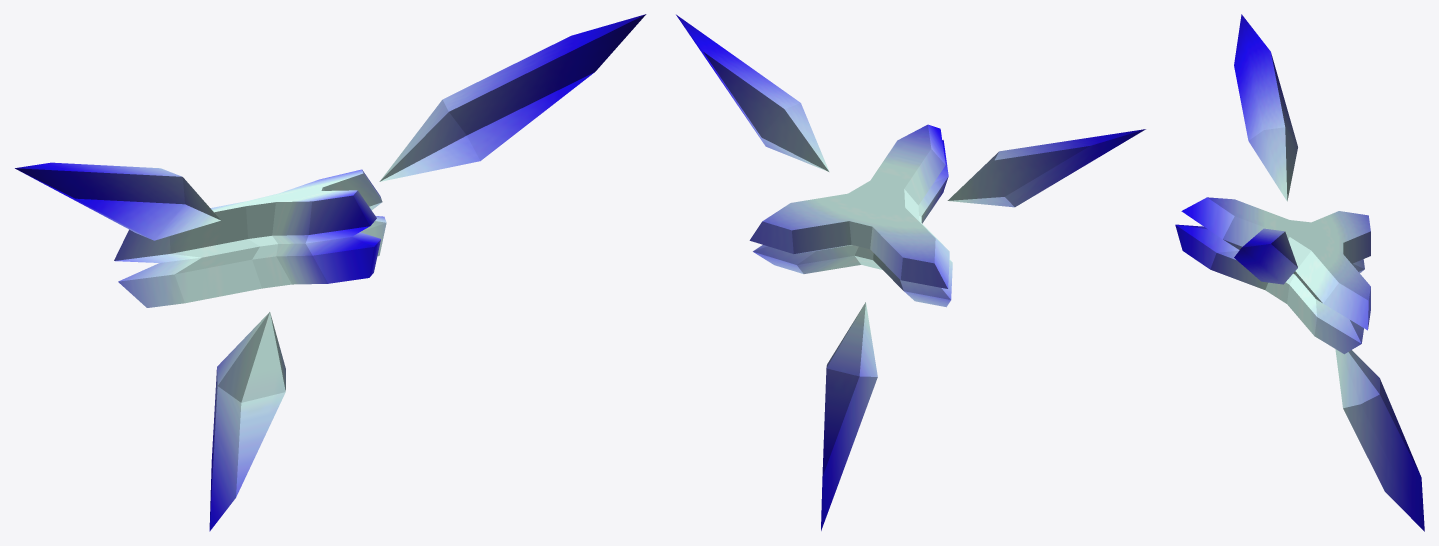
The model's file is m.ico.obj.
3 views of the same model, side by side, from view 1: azimuth 30°, elevation 25°; view 2: azimuth 150°, elevation 25°; view 3: azimuth 270°, elevation 25° (orthographic). The views are drawn at different scales.
Size of the model in its own units: 4.22 by 3.38 by 1.9.
Materials: 1 (1 with a texture image).
